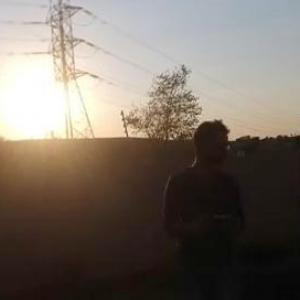follow: (152, 112, 252, 299)
